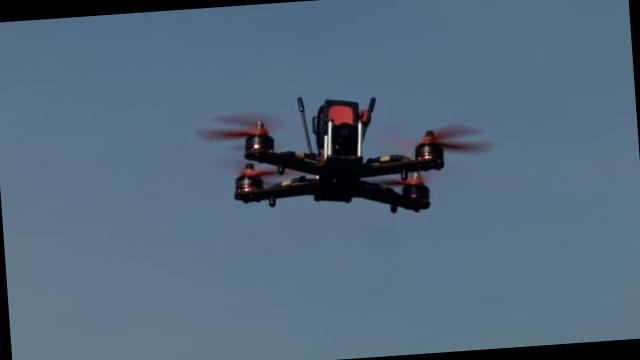drone: (174, 62, 518, 250)
